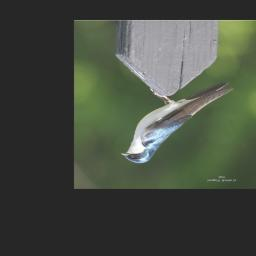Swallow: (120, 81, 234, 163)
